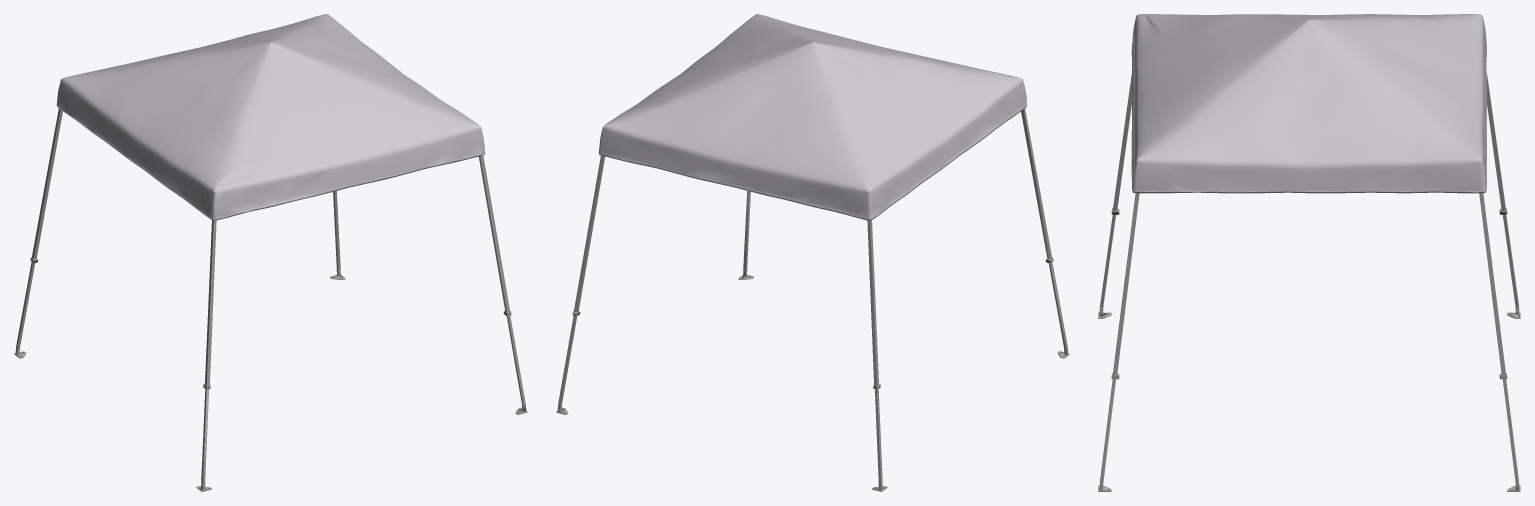
Rendered from canopy_tent_abo_B07YM1FJ1M.glb.
3 views of the same model, side by side, from view 1: azimuth 30°, elevation 25°; view 2: azimuth 150°, elevation 25°; view 3: azimuth 270°, elevation 25° (orthographic). The views are drawn at different scales.
Visible parts, largest first — view 1: RootNode; view 2: RootNode; view 3: RootNode.
Part boxes in pixels (box(x1,y1,x2,y2)): RootNode: box(14, 14, 527, 491); RootNode: box(556, 14, 1069, 491); RootNode: box(1098, 14, 1520, 491).
Bounding box in the file's own units: 2.85 × 2.85 × 2.85.
Materials: 1 (1 with a texture image).
